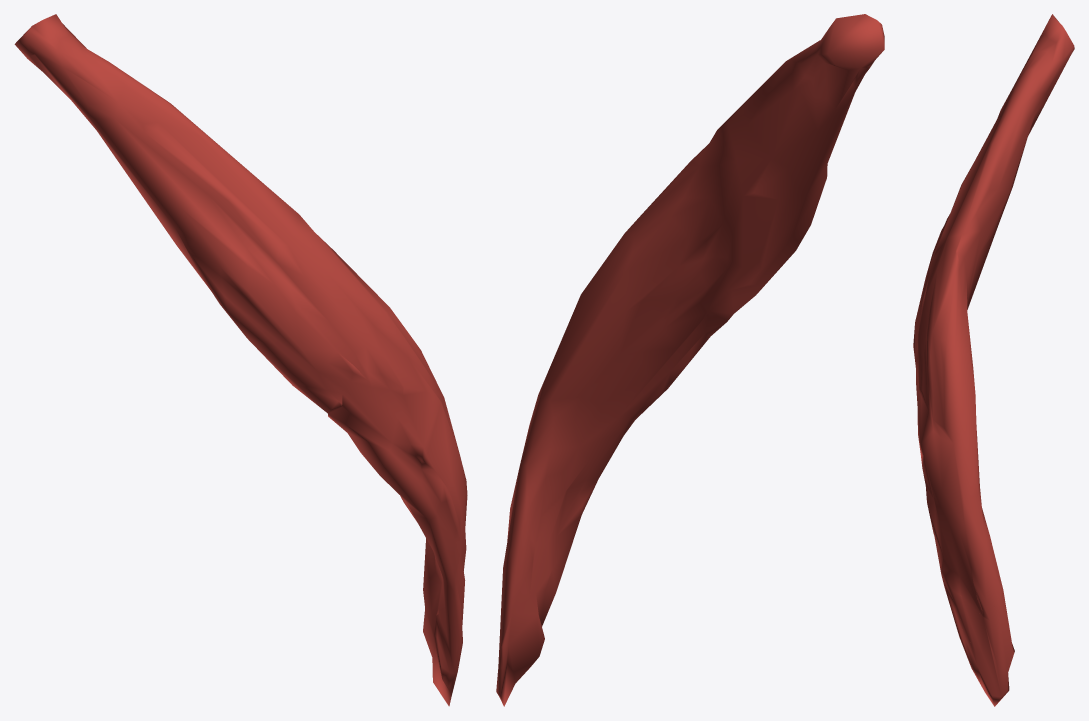
The model's file is musculos-deep-head-of-pronator-teres-l.glb.
3 renders of one model, left to right at view 1: azimuth 30°, elevation 25°; view 2: azimuth 150°, elevation 25°; view 3: azimuth 270°, elevation 25°, orthographic. The views are drawn at different scales.
Visible parts, largest first — view 1: Deep head of pronator teres.l; view 2: Deep head of pronator teres.l; view 3: Deep head of pronator teres.l.
Part boxes in pixels (left/top/right/bottom): Deep head of pronator teres.l: left=14, top=14, right=467, bottom=706; Deep head of pronator teres.l: left=496, top=14, right=884, bottom=706; Deep head of pronator teres.l: left=913, top=14, right=1074, bottom=706.
Bounding box in the file's own units: 0.0537 × 0.0971 × 0.0255.
